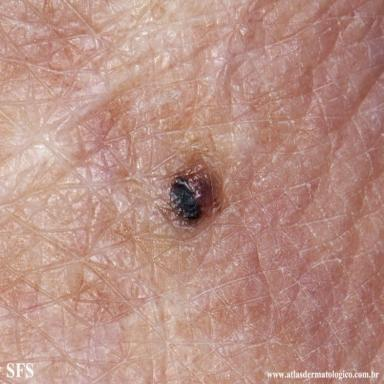Melanoma: (169, 158, 223, 226)
